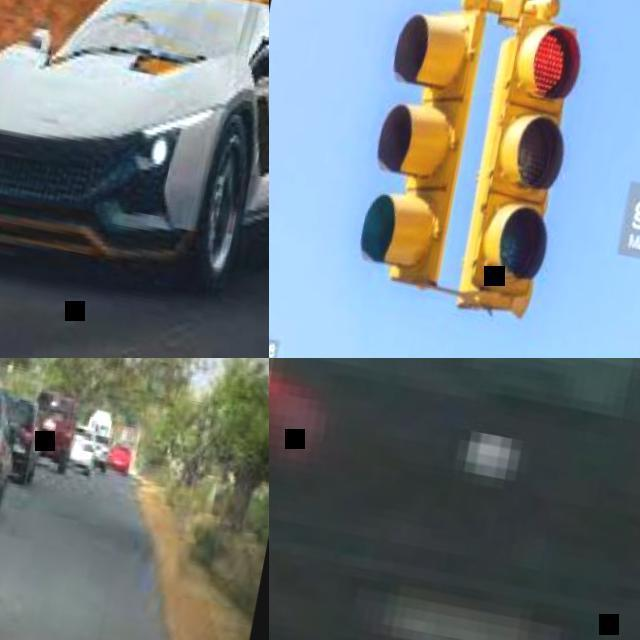car: (1, 0, 270, 297), (1, 404, 170, 639)
